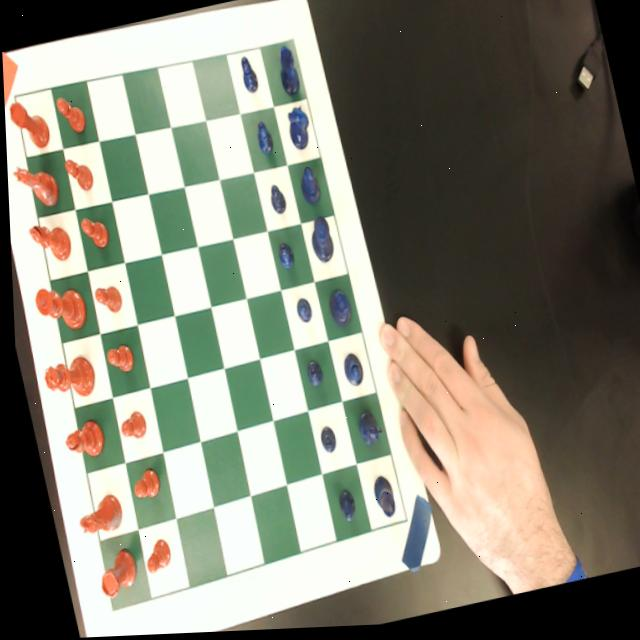B: (293, 164, 322, 210), (336, 353, 363, 392)
K: (303, 216, 334, 268)
N: (281, 103, 313, 155), (351, 409, 380, 451)
P: (237, 55, 259, 98), (330, 489, 353, 527), (252, 121, 274, 159), (312, 424, 334, 457), (265, 184, 286, 217), (272, 242, 294, 273), (300, 360, 322, 391), (291, 299, 311, 328)
Q: (321, 288, 352, 332)
R: (272, 44, 302, 100), (366, 475, 394, 523)
b: (25, 218, 72, 267), (58, 417, 103, 464)
k: (30, 279, 88, 339)
n: (10, 158, 60, 214), (69, 490, 121, 539)
p: (53, 92, 87, 138), (135, 537, 169, 578), (61, 154, 94, 195), (124, 467, 159, 504), (77, 214, 109, 253), (113, 409, 145, 443), (102, 343, 133, 376), (91, 283, 120, 316)
q: (37, 354, 95, 404)
r: (88, 546, 138, 602), (5, 94, 51, 154)
